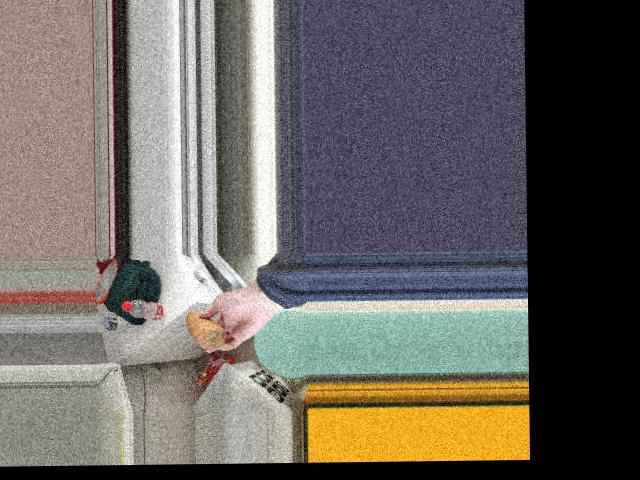sweet_potato: (185, 306, 231, 345)
